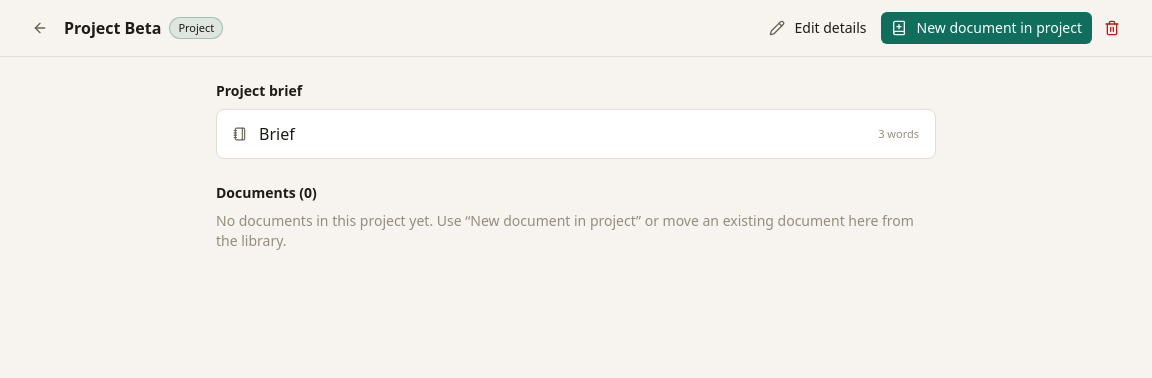
Test: save acknowledgements (B04) › the overview's collapsed brief row opens the brief view
Expected: the text "3 words" is shown, [878,126,919,142]
Click the text "Brief".
click(277, 134)  # box [259,123,295,145]
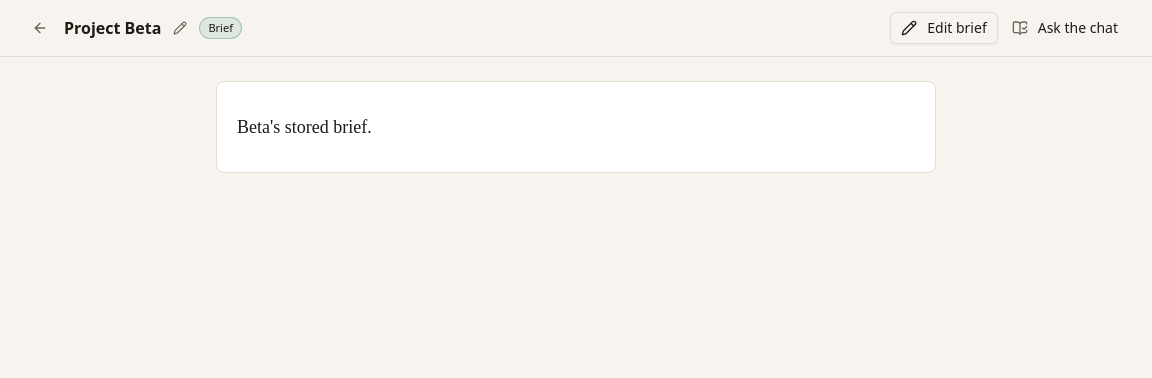
Click the button "Edit brief".
click(944, 28)  # box [890,12,998,44]
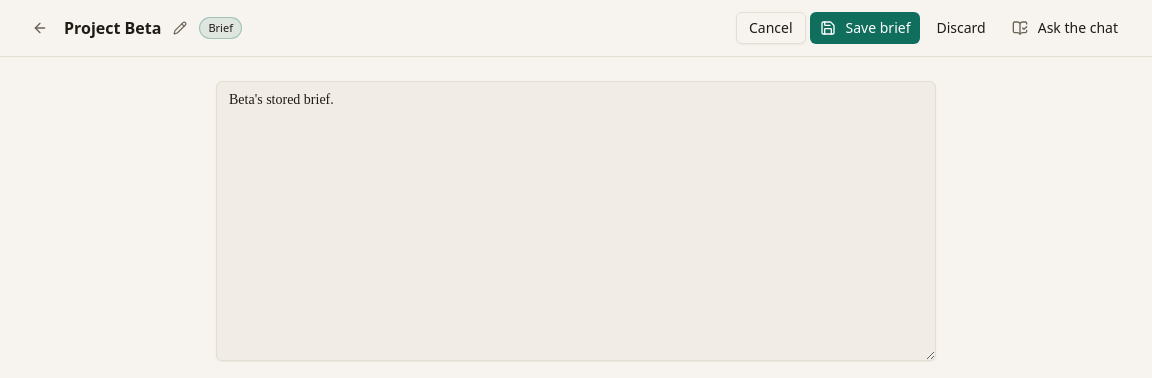
Expected: the text box with placeholder "Purpose, audience, planned texts" holds "Beta's stored brief.", [216,81,936,361]
